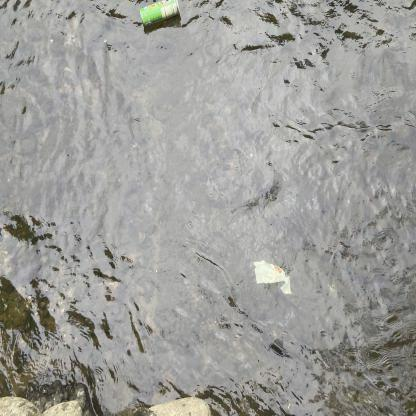Metal: (134, 0, 184, 32)
Plastic: (250, 255, 298, 301)
